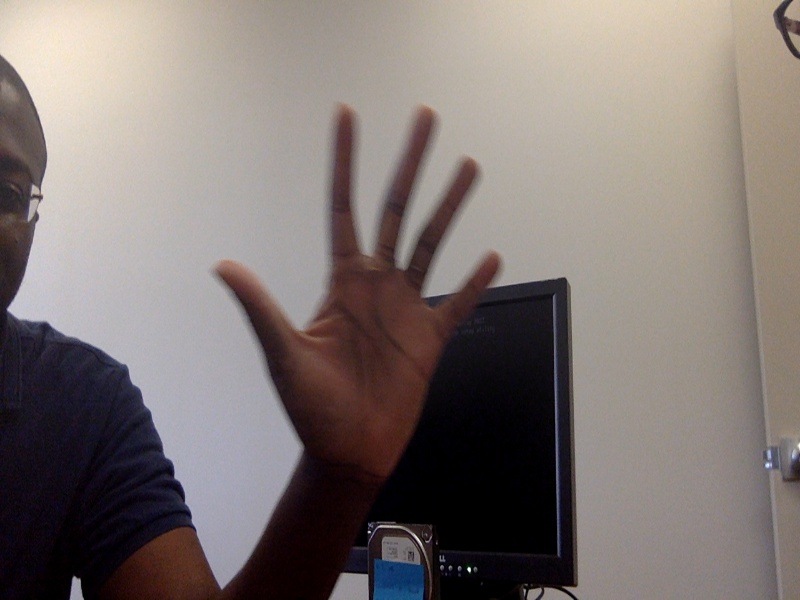5-hand: (210, 105, 507, 488)
